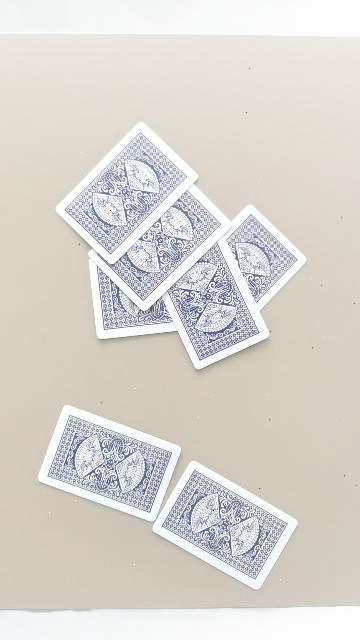card: (56, 121, 198, 264), (152, 461, 298, 588), (90, 185, 231, 310), (39, 405, 181, 521), (162, 238, 269, 369), (224, 205, 306, 310)
